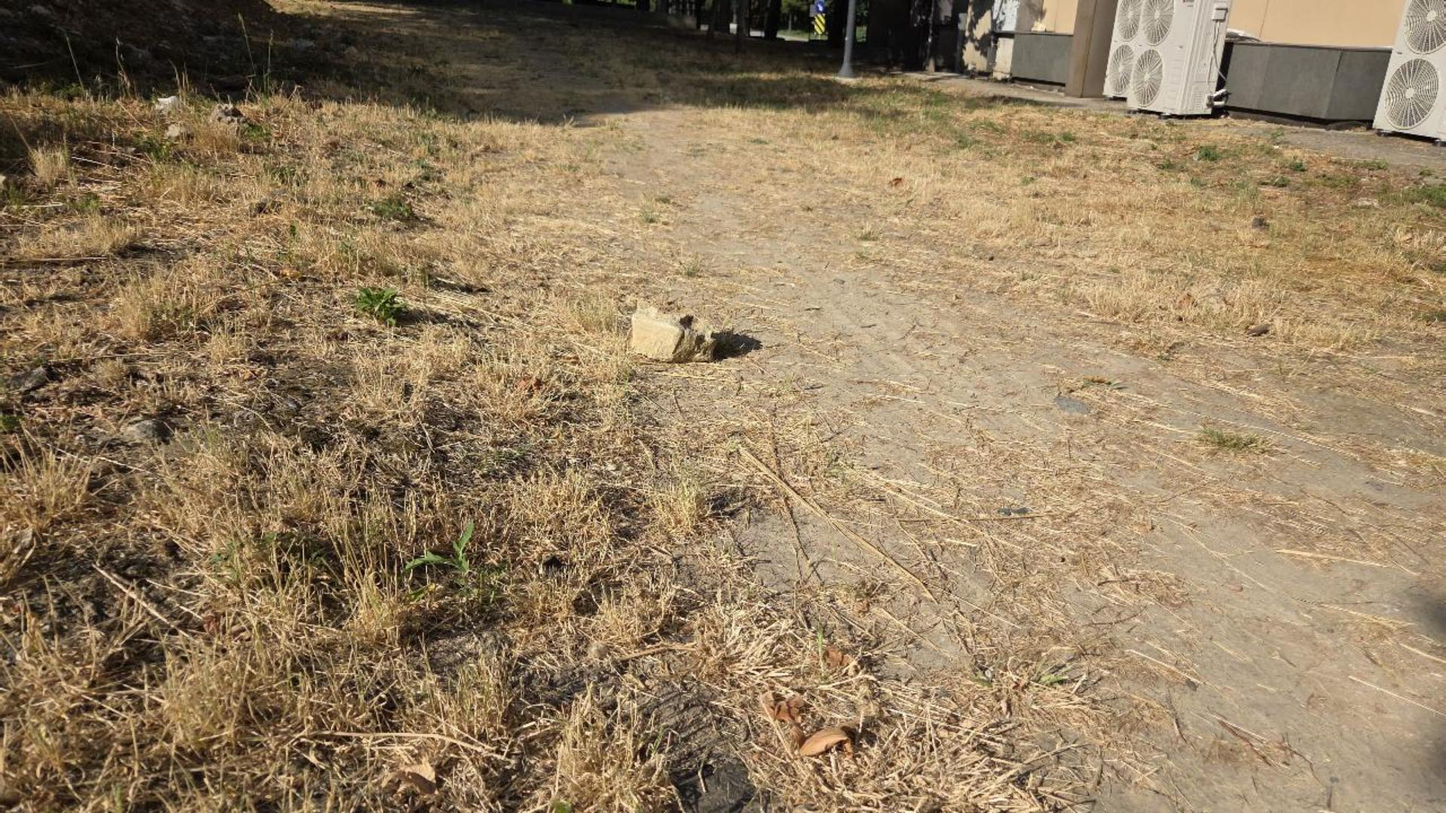rock: (628, 306, 713, 361), (121, 418, 169, 443), (6, 367, 47, 393), (210, 103, 245, 126), (154, 95, 183, 114), (164, 123, 188, 140)
